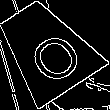O_NW: (12, 16, 81, 82)
